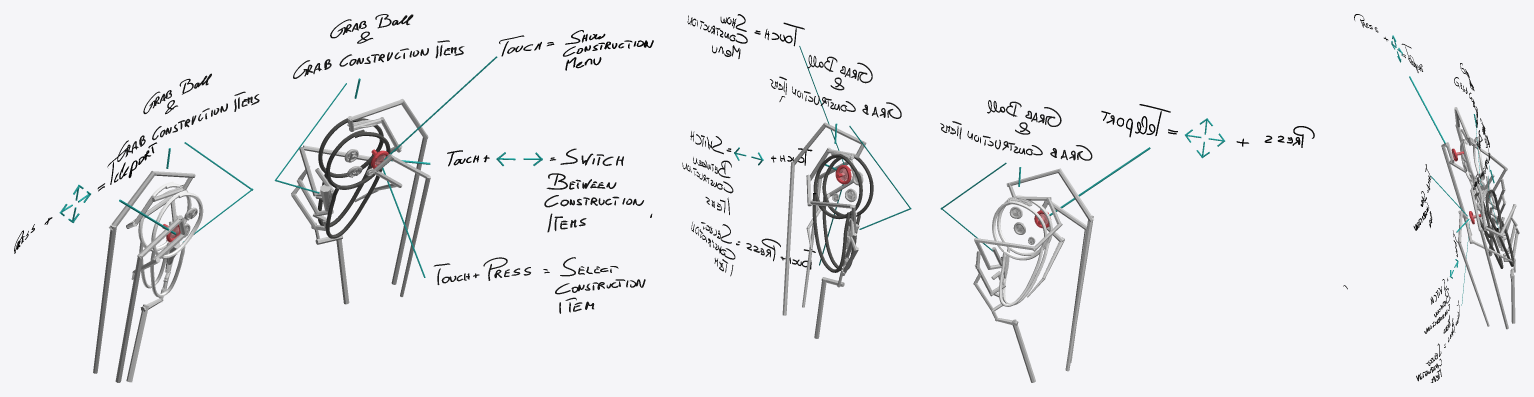
The model's file is ControllerInfo.fbx.
3 renders of one model, left to right at view 1: azimuth 30°, elevation 25°; view 2: azimuth 150°, elevation 25°; view 3: azimuth 270°, elevation 25°, orthographic. The views are drawn at different scales.
Parts seen in each view (by area): view 1: draw-label, hand, Hand, roundhardware (×2), handle1 (×2), NewLayer0; view 2: draw-label, Hand, hand, roundhardware (×2), handle1 (×2), NewLayer0; view 3: hand, draw-label, Hand, roundhardware (×2), handle1, NewLayer0.
Part boxes in pixels (box(x1,y1,x2,y2)): draw-label: box(14, 14, 653, 313); hand: box(291, 99, 430, 304); Hand: box(93, 171, 195, 382); roundhardware (×2): box(138, 118, 390, 258); handle1 (×2): box(139, 154, 382, 297); NewLayer0: box(117, 73, 259, 168); draw-label: box(682, 14, 1314, 276); Hand: box(973, 168, 1093, 382); hand: box(782, 122, 866, 338); roundhardware (×2): box(813, 154, 1052, 260); handle1 (×2): box(812, 193, 1049, 306); NewLayer0: box(940, 100, 1092, 186); hand: box(1457, 179, 1519, 329); draw-label: box(1343, 14, 1498, 382); Hand: box(1441, 107, 1507, 256); roundhardware (×2): box(1460, 137, 1502, 237); handle1: box(1484, 221, 1514, 268); NewLayer0: box(1454, 63, 1477, 127).
Bounding box in the file's own units: 0.6612 × 0.2919 × 0.2319.
